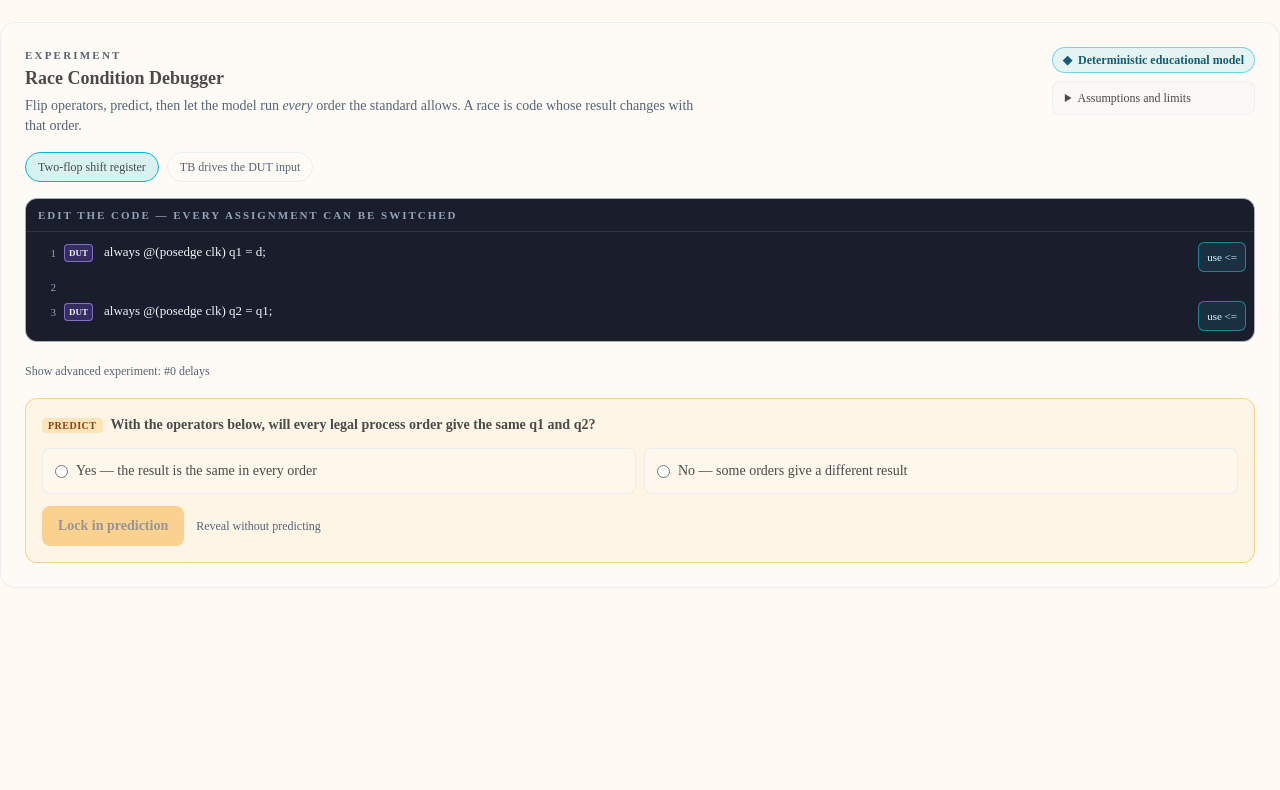
RaceConditionDebugger › hides results until a prediction is locked in, then diagnoses it
The width and height of the screenshot is (1280, 790).
What coordinates should you click on to do the following:
click the radio button labelled "Yes — the result is the same in every order"
I would click on:
 (62, 472)
Its box is x1=55 y1=465 x2=68 y2=478.
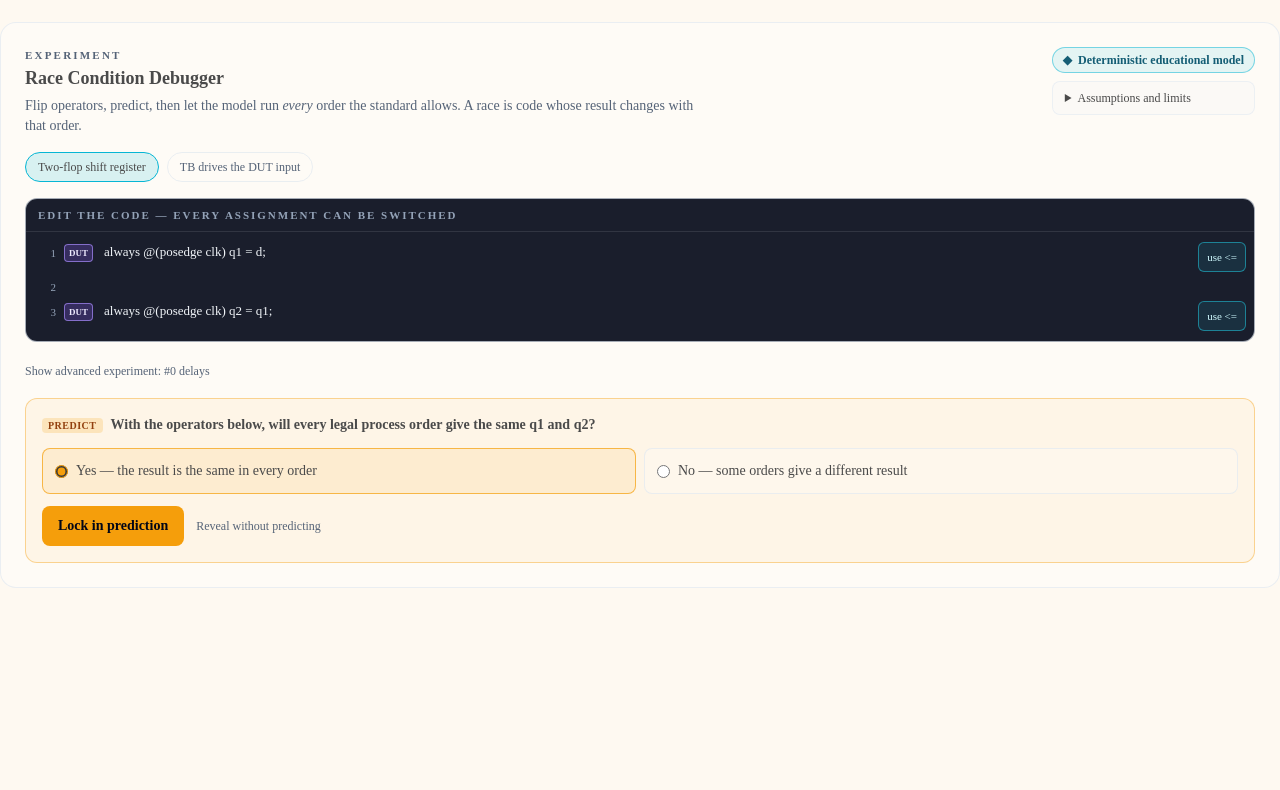
What coordinates should you click on to do the following:
click the button "Lock in prediction"
I would click on:
 (113, 526)
Its box is x1=42 y1=506 x2=184 y2=546.
(page scrolled)
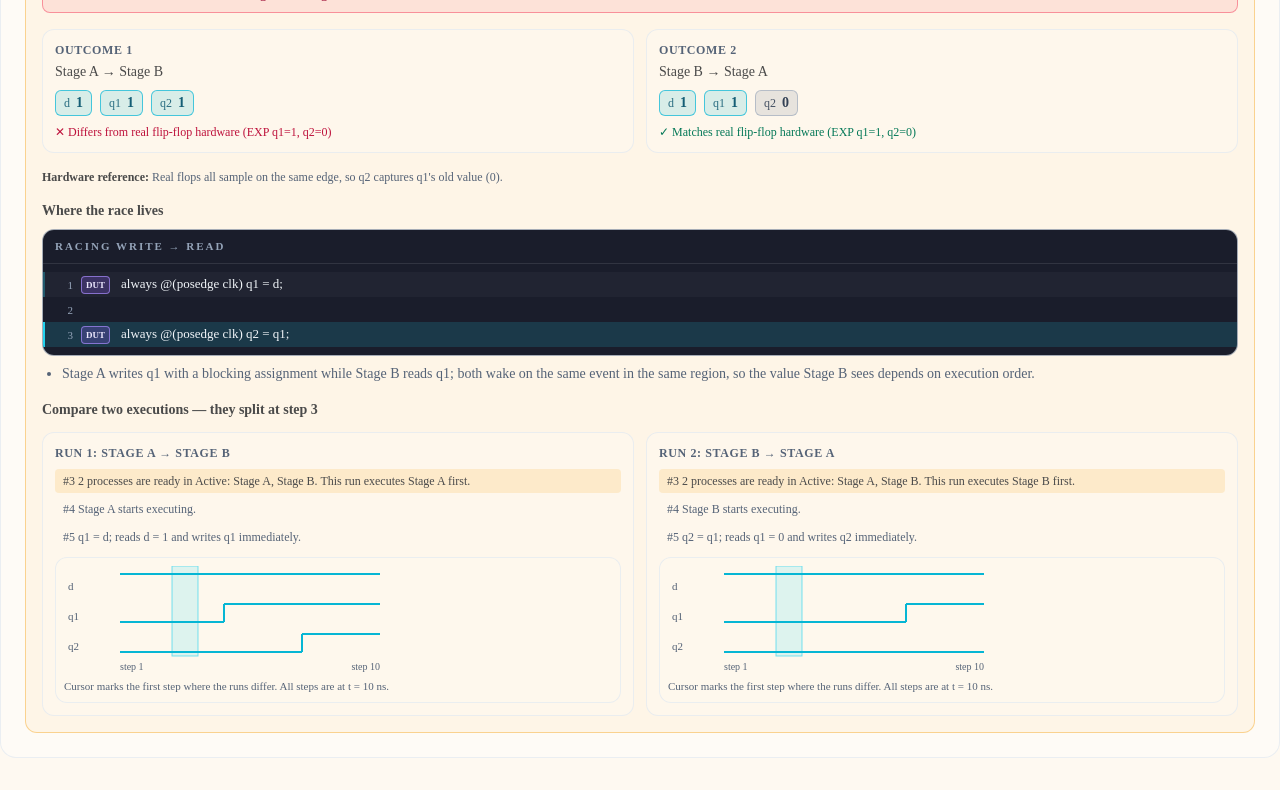
Expected: the text "Compare two executions — they split at step 3" is shown, x1=42 y1=402 x2=318 y2=416
